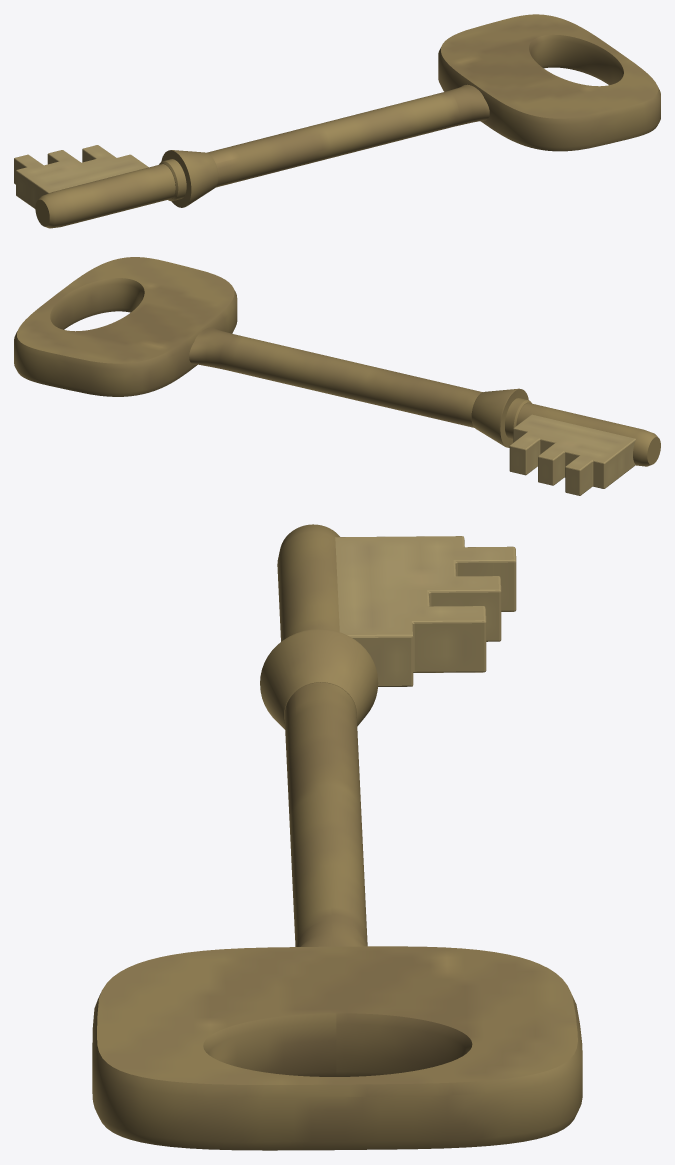
Rendered from Key_FullTake.fbx.
The picture shows the model from 3 angles, top to bottom: view 1: azimuth 30°, elevation 25°; view 2: azimuth 150°, elevation 25°; view 3: azimuth 270°, elevation 25°; orthographic projection. The views are drawn at different scales.
Visible parts, largest first — view 1: TT_Key_M45_Key__KEY_Forged_Trapezoid_Bow_Offset_Oval, TT_Key_M45_Key__KEY_Forged_Neck_And_Round_Shank, TT_Key_M45_Key__KEY_Cut_Bit_Three_Levels_And_Clearance, TT_Key_M45_Key__KEY_Conical_Registration_Shoulder; view 2: TT_Key_M45_Key__KEY_Forged_Trapezoid_Bow_Offset_Oval, TT_Key_M45_Key__KEY_Forged_Neck_And_Round_Shank, TT_Key_M45_Key__KEY_Cut_Bit_Three_Levels_And_Clearance, TT_Key_M45_Key__KEY_Conical_Registration_Shoulder; view 3: TT_Key_M45_Key__KEY_Forged_Trapezoid_Bow_Offset_Oval, TT_Key_M45_Key__KEY_Forged_Neck_And_Round_Shank, TT_Key_M45_Key__KEY_Cut_Bit_Three_Levels_And_Clearance, TT_Key_M45_Key__KEY_Conical_Registration_Shoulder.
Boxes of the visible parts, x1=… form: TT_Key_M45_Key__KEY_Forged_Trapezoid_Bow_Offset_Oval: x1=438, y1=14, x2=660, y2=151; TT_Key_M45_Key__KEY_Forged_Neck_And_Round_Shank: x1=35, y1=84, x2=489, y2=228; TT_Key_M45_Key__KEY_Cut_Bit_Three_Levels_And_Clearance: x1=14, y1=145, x2=148, y2=208; TT_Key_M45_Key__KEY_Conical_Registration_Shoulder: x1=159, y1=150, x2=218, y2=207; TT_Key_M45_Key__KEY_Forged_Trapezoid_Bow_Offset_Oval: x1=14, y1=257, x2=237, y2=396; TT_Key_M45_Key__KEY_Forged_Neck_And_Round_Shank: x1=189, y1=327, x2=660, y2=466; TT_Key_M45_Key__KEY_Cut_Bit_Three_Levels_And_Clearance: x1=509, y1=414, x2=635, y2=495; TT_Key_M45_Key__KEY_Conical_Registration_Shoulder: x1=471, y1=388, x2=531, y2=447; TT_Key_M45_Key__KEY_Forged_Trapezoid_Bow_Offset_Oval: x1=92, y1=946, x2=582, y2=1150; TT_Key_M45_Key__KEY_Forged_Neck_And_Round_Shank: x1=277, y1=524, x2=367, y2=946; TT_Key_M45_Key__KEY_Cut_Bit_Three_Levels_And_Clearance: x1=335, y1=536, x2=516, y2=686; TT_Key_M45_Key__KEY_Conical_Registration_Shoulder: x1=260, y1=629, x2=378, y2=729.
Size of the model in its own units: 82.08 by 7.2 by 29.86.
2 materials, 2 textured.
